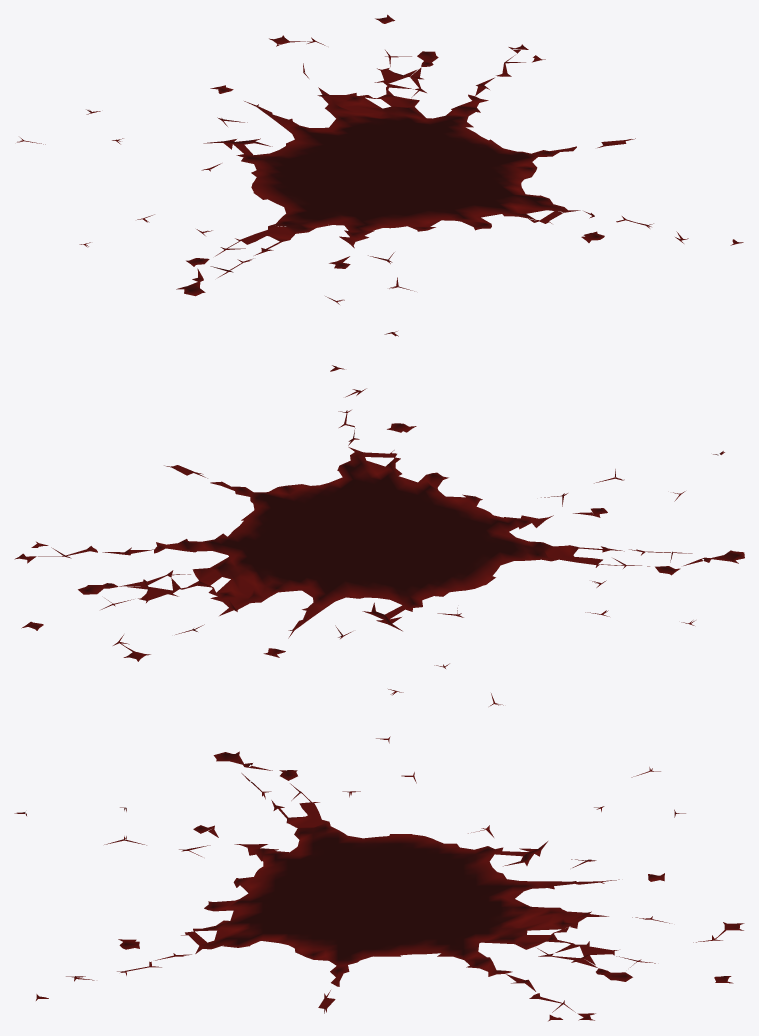
File: blood_floor_xlo.glb
The picture shows the model from 3 angles, top to bottom: view 1: azimuth 30°, elevation 25°; view 2: azimuth 150°, elevation 25°; view 3: azimuth 270°, elevation 25°; orthographic projection. The views are drawn at different scales.
Visible parts, largest first — view 1: blood_floor; view 2: blood_floor; view 3: blood_floor.
Boxes of the visible parts, x1,y1,x2,y2 form: blood_floor: (17,14,743,336); blood_floor: (14,365,744,706); blood_floor: (14,736,744,1021).
Bounding box in the file's own units: 1.84 × 0.004 × 1.99.
